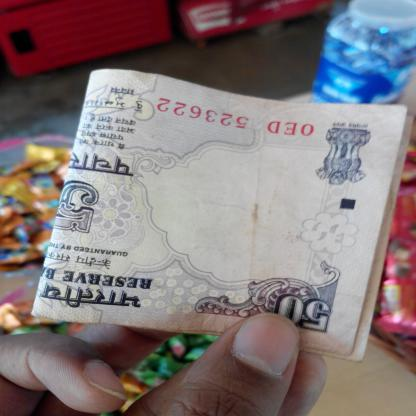Old50Front: (30, 68, 416, 361)
